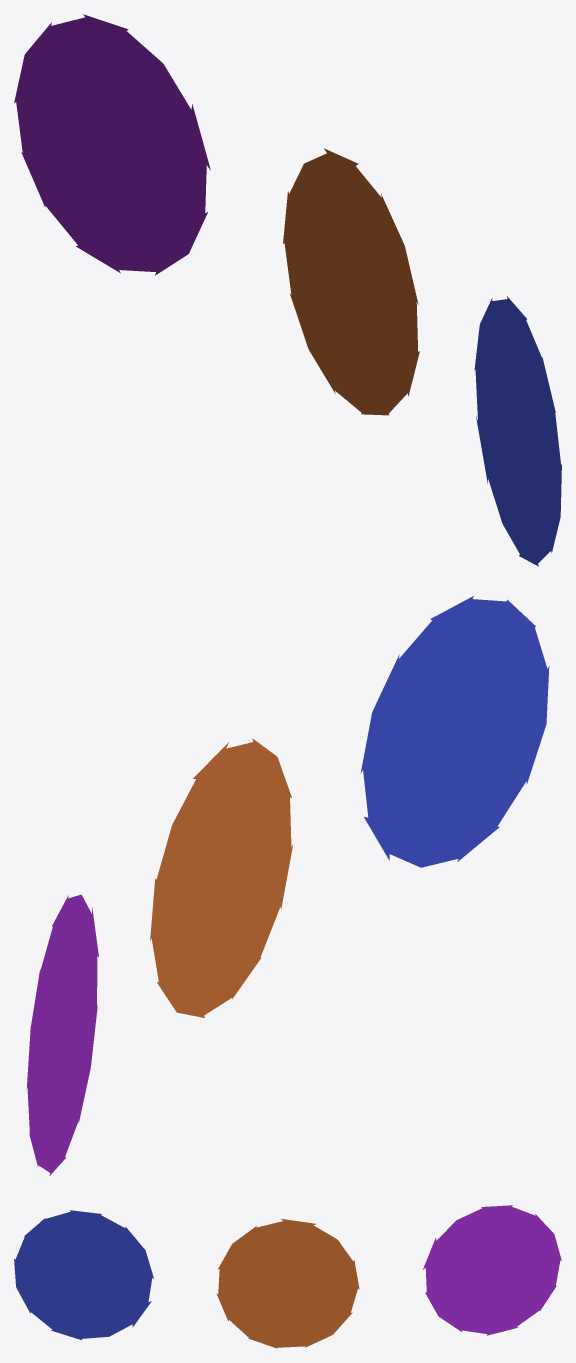
The model's file is contact interactive object.glb.
The picture shows the model from 3 angles, top to bottom: view 1: azimuth 30°, elevation 25°; view 2: azimuth 150°, elevation 25°; view 3: azimuth 270°, elevation 25°; orthographic projection. The views are drawn at different scales.
Visible parts, largest first — view 1: portail 1 transparent, portail 2 transparent, portail transparent; view 2: portail transparent, portail 2 transparent, portail 1 transparent; view 3: portail 2 transparent, portail transparent, portail 1 transparent.
Boxes of the visible parts, <box> form: portail 1 transparent: <box>14,14,210,275</box>; portail 2 transparent: <box>283,148,419,415</box>; portail transparent: <box>474,296,561,566</box>; portail transparent: <box>360,596,549,867</box>; portail 2 transparent: <box>150,738,292,1017</box>; portail 1 transparent: <box>26,894,98,1175</box>; portail 2 transparent: <box>216,1219,359,1348</box>; portail transparent: <box>14,1210,153,1340</box>; portail 1 transparent: <box>423,1205,561,1335</box>.
Bounding box in the file's own units: 3.19 × 10.18 × 38.32.
